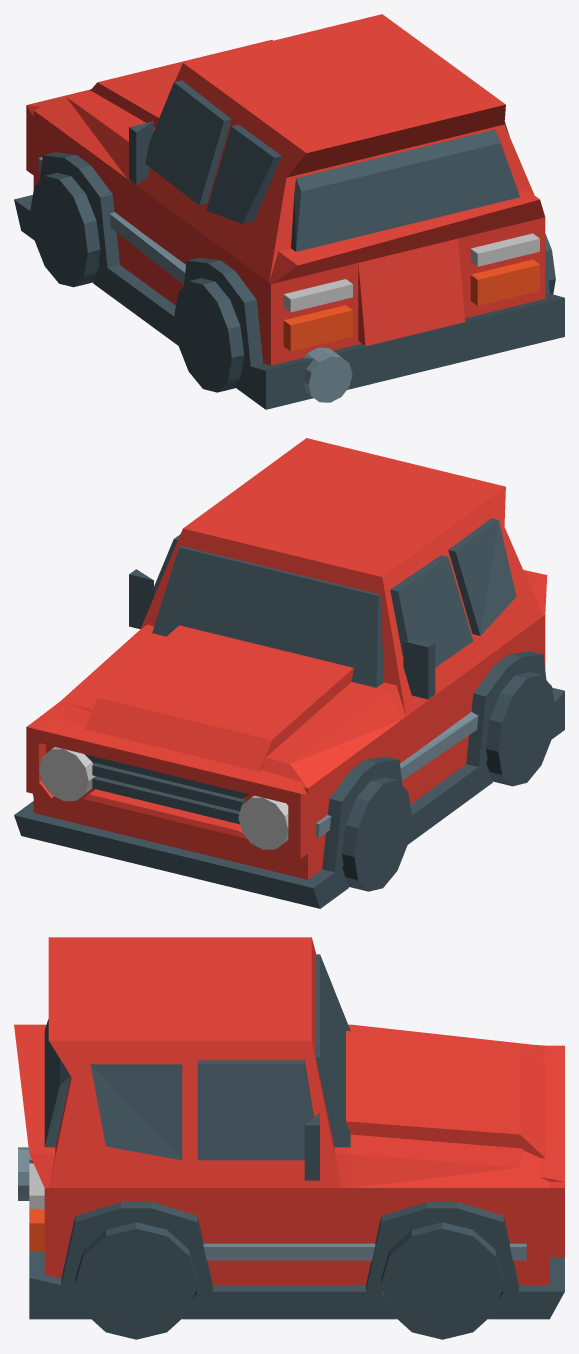
3 renders of one model, top to bottom at view 1: azimuth 30°, elevation 25°; view 2: azimuth 150°, elevation 25°; view 3: azimuth 270°, elevation 25°, orthographic. The views are drawn at different scales.
Visible parts, largest first — view 1: group_2017902997, mesh_373236087, mesh_2118011109, group_547768100, mesh_359046379, mesh_686971371, mesh_2060816111, group_1129954348, group_1603761372, mesh_1729932470, mesh_740239471, mesh_2008520726 (+5 smaller); view 2: group_2017902997, mesh_583836635, group_1372723494, group_547768100, mesh_1092676882, mesh_2060816111, mesh_686971371, group_2044362016, group_10036750, mesh_1729932470, mesh_740239471, mesh_2008520726 (+3 smaller); view 3: group_2017902997, group_842921121, mesh_2060816111, mesh_686971371, mesh_2008520726, mesh_159400031, mesh_1903564485, mesh_583836635, group_1372723494, mesh_116960146, mesh_2118011109, mesh_1092676882 (+4 smaller).
Boxes of the visible parts, <box> form: group_2017902997: <box>33,14,545,365</box>; mesh_373236087: <box>291,129,519,251</box>; mesh_2118011109: <box>233,293,564,409</box>; group_547768100: <box>145,80,281,223</box>; mesh_359046379: <box>358,238,465,346</box>; mesh_686971371: <box>174,233,555,392</box>; mesh_2060816111: <box>30,173,100,287</box>; group_1129954348: <box>283,279,352,351</box>; group_1603761372: <box>470,233,539,305</box>; mesh_1729932470: <box>39,152,119,267</box>; mesh_740239471: <box>183,257,263,366</box>; mesh_2008520726: <box>93,263,178,345</box>; group_2017902997: <box>33,438,547,879</box>; mesh_583836635: <box>152,546,383,687</box>; group_1372723494: <box>26,717,314,858</box>; group_547768100: <box>390,518,516,667</box>; mesh_1092676882: <box>14,801,348,908</box>; mesh_2060816111: <box>33,777,411,891</box>; mesh_686971371: <box>486,672,555,786</box>; group_2044362016: <box>84,754,249,824</box>; group_10036750: <box>39,747,288,849</box>; mesh_1729932470: <box>322,756,402,872</box>; mesh_740239471: <box>466,651,546,766</box>; mesh_2008520726: <box>408,762,492,844</box>; group_2017902997: <box>14,937,549,1285</box>; group_842921121: <box>90,1060,313,1160</box>; mesh_2060816111: <box>381,1222,503,1339</box>; mesh_686971371: <box>75,1222,197,1339</box>; mesh_2008520726: <box>182,1285,396,1319</box>; mesh_159400031: <box>366,1202,518,1291</box>; mesh_1903564485: <box>61,1202,212,1291</box>; mesh_583836635: <box>315,954,350,1147</box>; group_1372723494: <box>539,1045,564,1257</box>; mesh_116960146: <box>203,1243,526,1260</box>; mesh_2118011109: <box>29,1159,90,1319</box>; mesh_1092676882: <box>488,1257,564,1319</box>.
Bounding box in the file's own units: 26 × 19.23 × 36.
